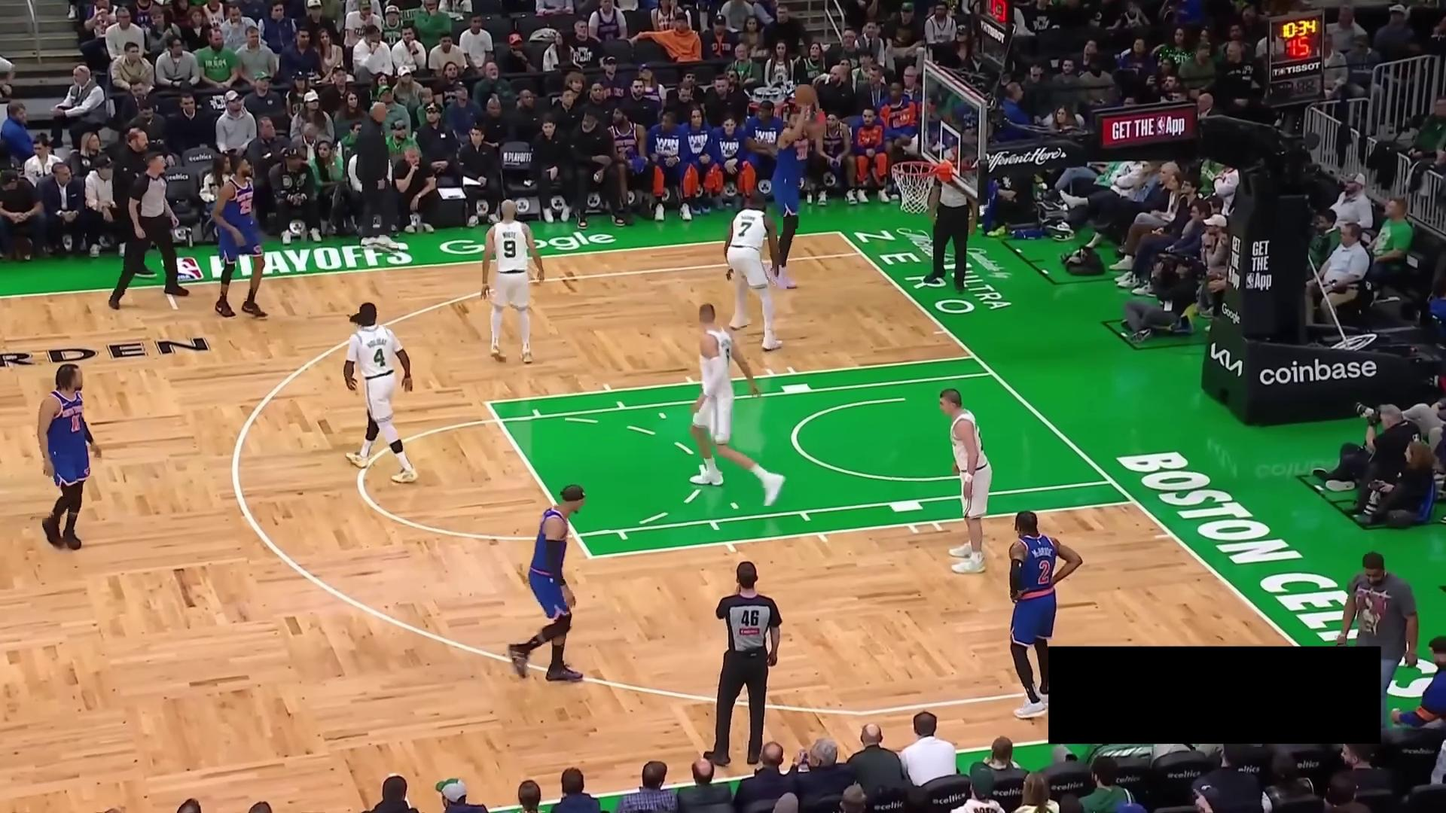ball: (797, 85, 819, 108)
number: (1038, 558, 1052, 582), (373, 347, 387, 367), (503, 240, 517, 259), (738, 220, 752, 238), (69, 413, 81, 432), (240, 199, 254, 215)
player: (688, 302, 785, 507), (505, 483, 588, 683), (1005, 509, 1083, 720), (342, 301, 417, 483), (38, 363, 99, 550), (484, 199, 545, 365), (209, 153, 269, 320), (938, 388, 991, 576), (725, 192, 783, 352)
player-jump-shot: (766, 84, 825, 291)
referee: (707, 560, 784, 774), (107, 151, 190, 309), (926, 169, 977, 290)
rim: (892, 160, 938, 179)
